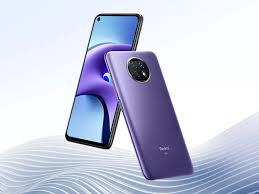Smartphone: (54, 8, 140, 145), (109, 53, 194, 179)
